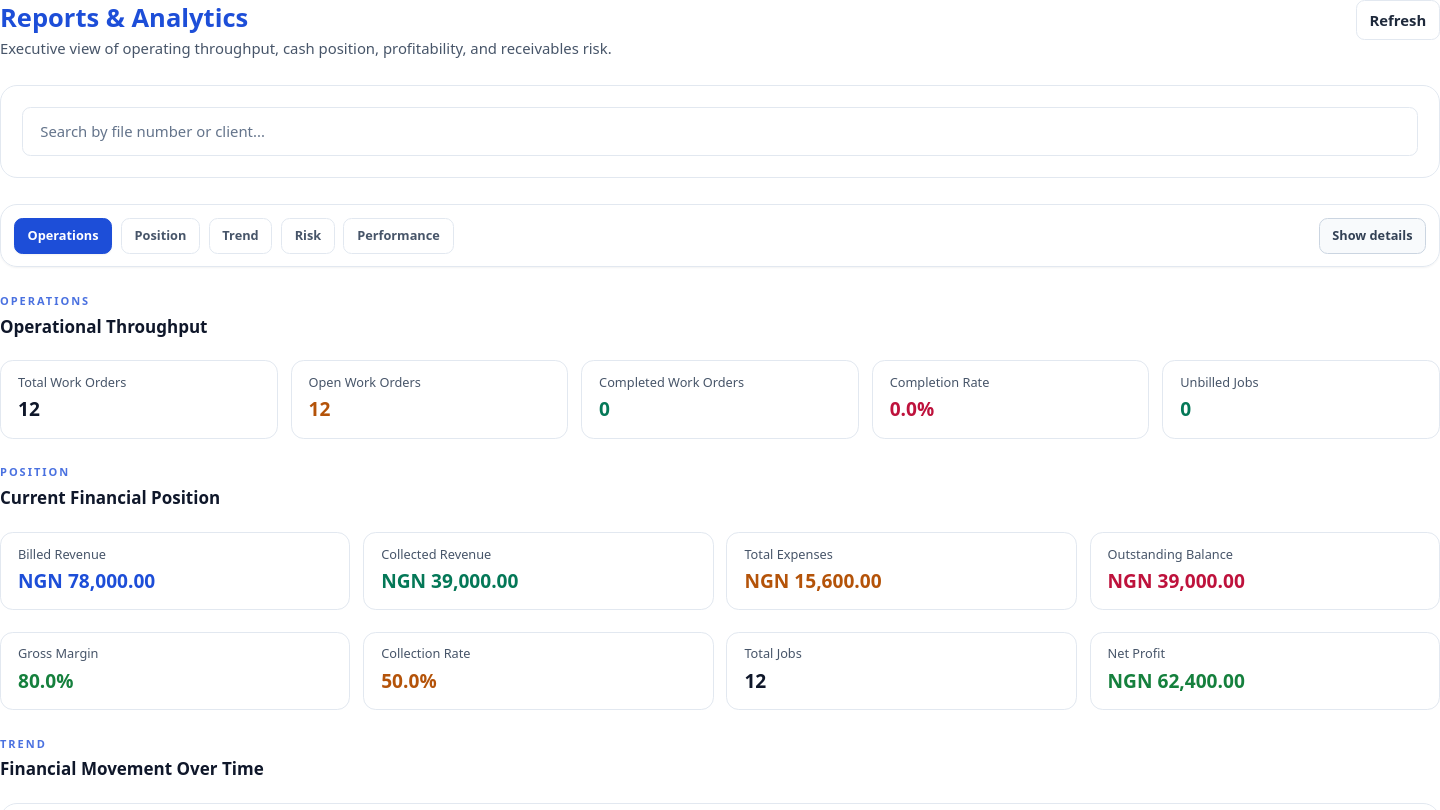
Test case: ReportPage interaction › paginates receipts breakdown modal
The image size is (1440, 810).
Click the button "Collected Revenue NGN 39,000.00" at (436, 554), box [363,532,714,610]
(page scrolled)
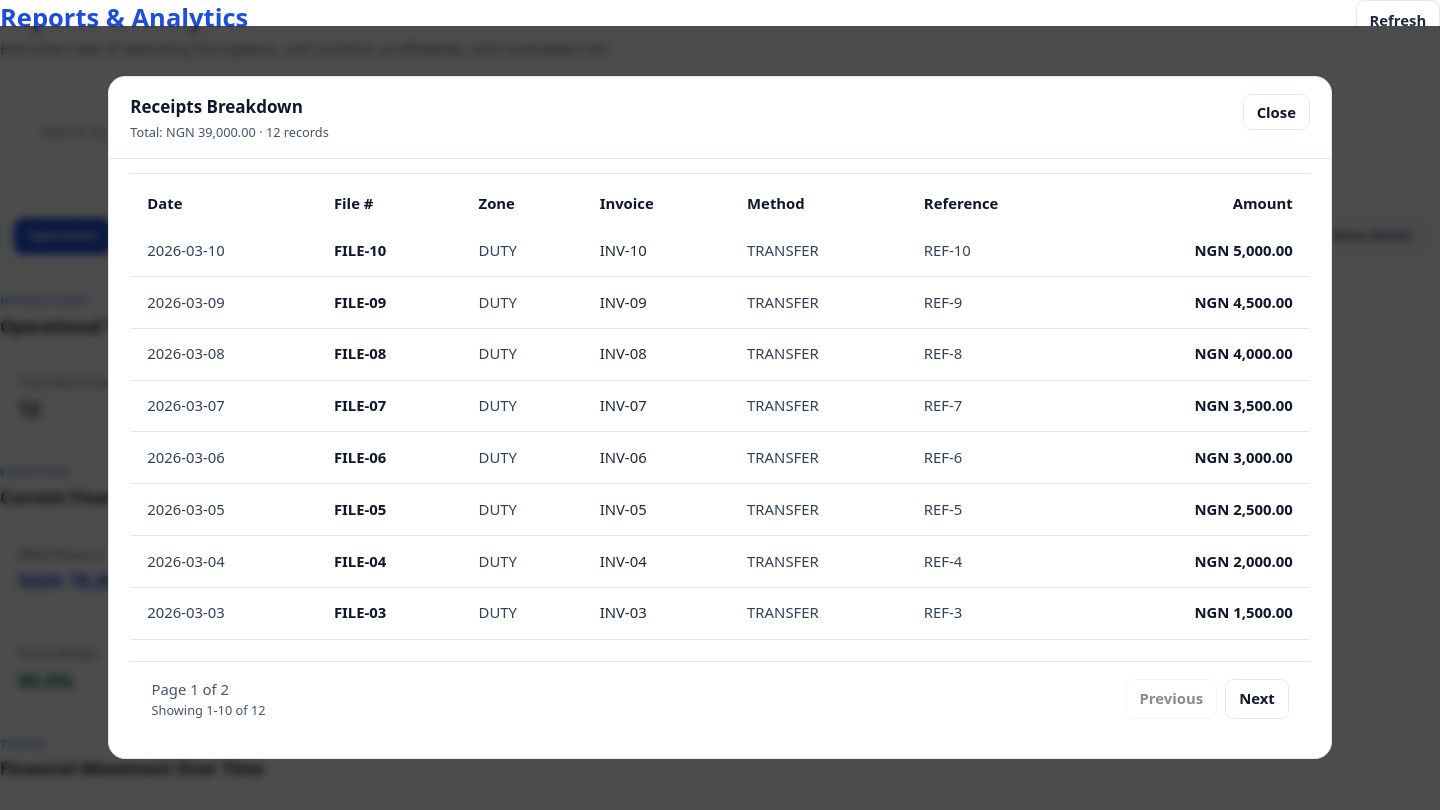
Expected: the element "Receipts Breakdown" is shown
Expected: the text "Page 1 of 2" is shown, [152,679,229,699]
Expected: the text "Showing 1-10 of 12" is shown, [152,702,266,719]
Click the button "Next" at (1257, 699), box [1225,679,1288,719]
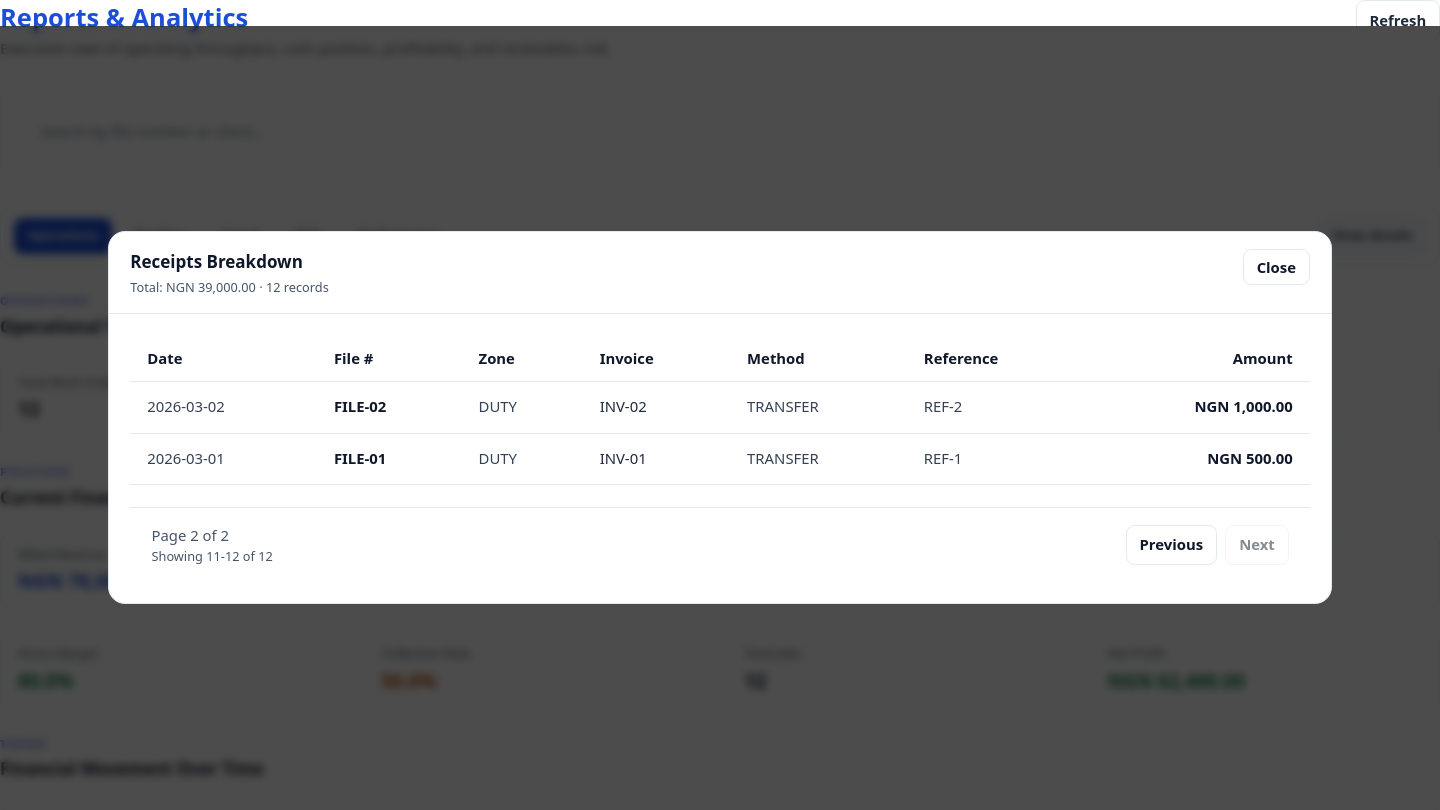
Expected: the text "REF-1" is shown, [907,433,1088,485]
Expected: the text "Page 2 of 2" is shown, [152,525,229,545]
Expected: the text "Showing 11-12 of 12" is shown, [152,548,273,565]
